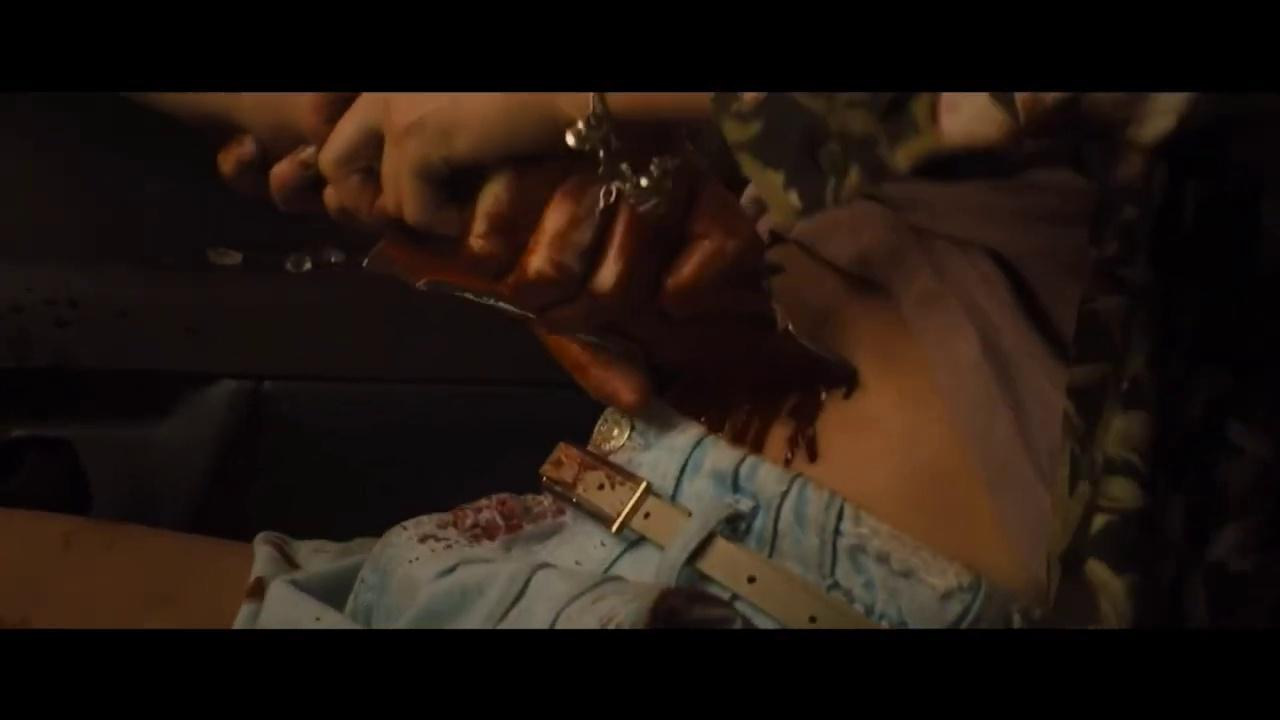Fire: (387, 157, 775, 350), (409, 441, 645, 556), (660, 352, 860, 467), (240, 534, 299, 625)
